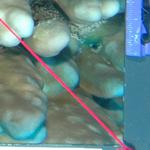alive: (4, 1, 121, 143)
